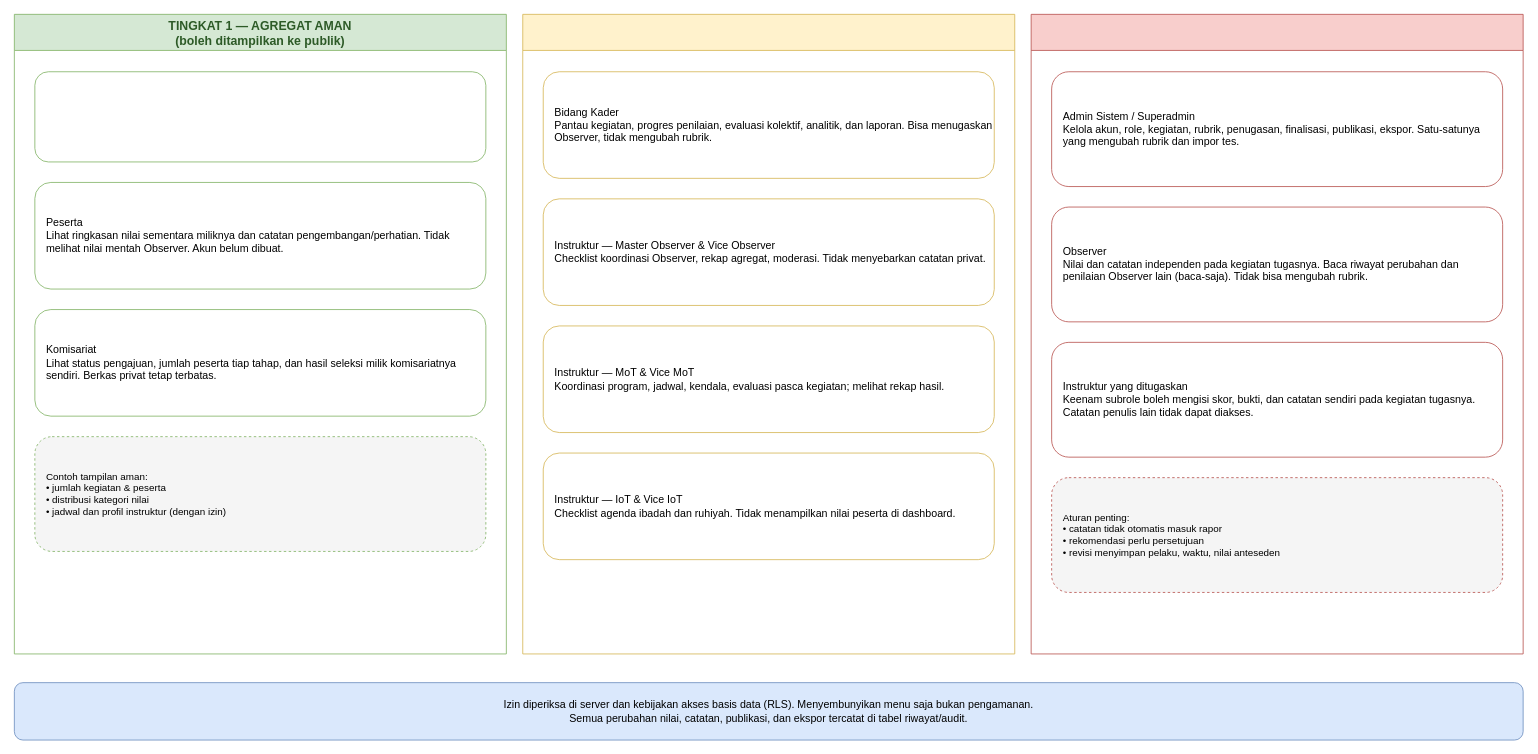
Some shapes in this 1538 by 754 pixel diagram are drawn without their labels. The shapes that lost their labels are listed below. From the top down, each one's box as (x1, y1, x2, y2) in pixels, then its label:
(34, 71, 486, 162): Publik Lihat dashboard agregat. Tanpa nama, skor individu, atau catatan privat.
(522, 14, 1015, 654): TINGKAT 2 — REKAP & KEPUTUSAN (tanpa bukti dan catatan privat)
(1030, 14, 1523, 654): TINGKAT 3 — SKOR MENTAH & CATATAN PRIVAT (hanya untuk yang ditugaskan)
